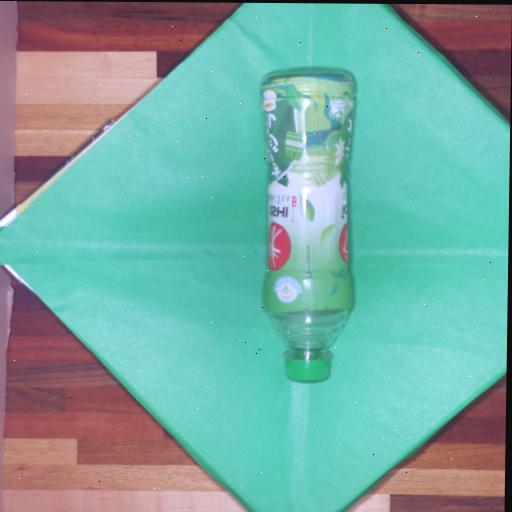bottle: (234, 58, 381, 399)
